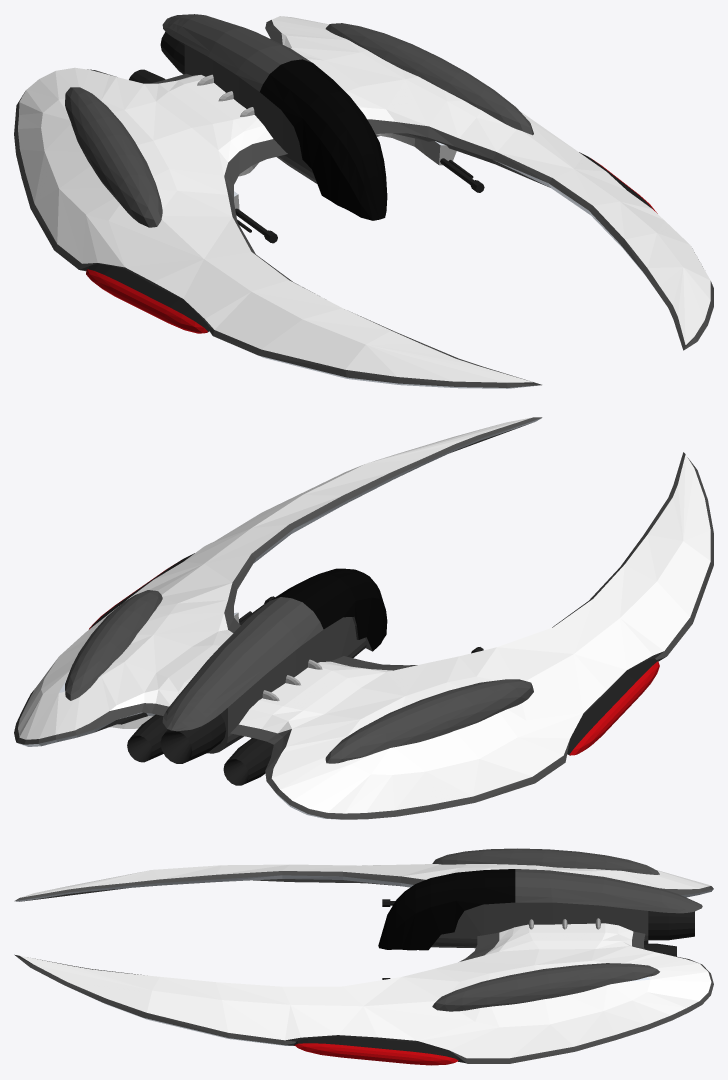
The model's file is spaceship.glb.
3 renders of one model, top to bottom at view 1: azimuth 30°, elevation 25°; view 2: azimuth 150°, elevation 25°; view 3: azimuth 270°, elevation 25°, orthographic. The views are drawn at different scales.
Parts seen in each view (by area): view 1: 3d-model; view 2: 3d-model; view 3: 3d-model.
Part boxes in pixels (x1,y1,x2,y2): 3d-model: (14,14,713,388); 3d-model: (14,417,713,819); 3d-model: (14,848,713,1065).
Bounding box in the file's own units: 220 × 55.89 × 347.
